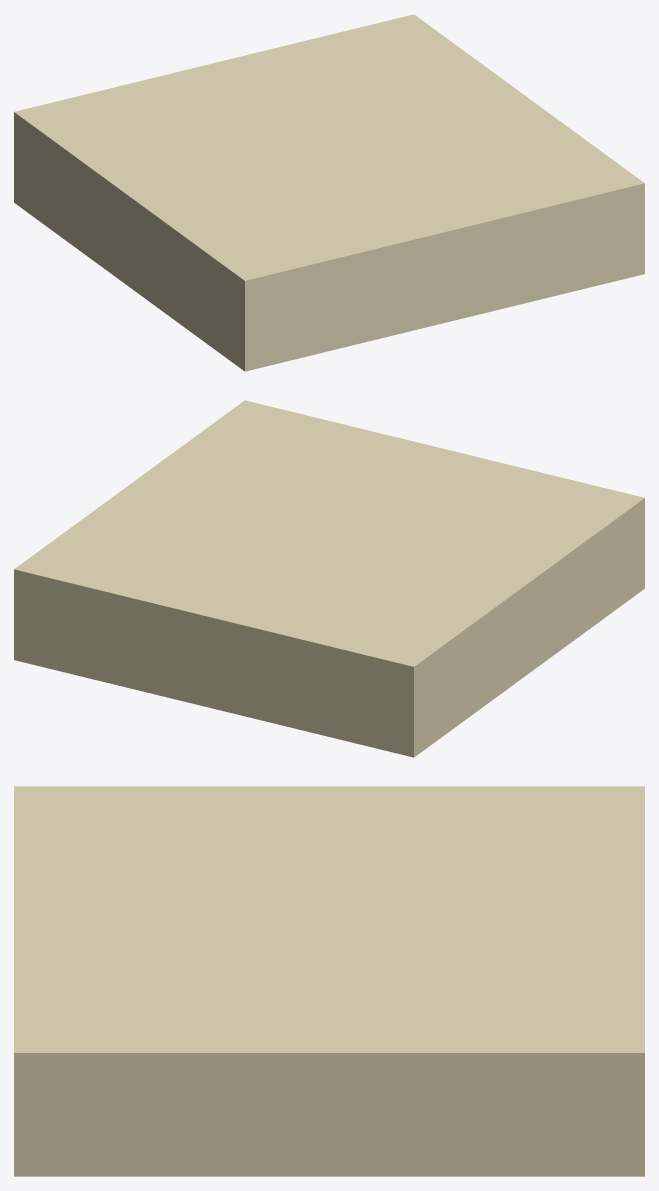
Rendered from towersquaremidcolor.glb.
3 renders of one model, top to bottom at view 1: azimuth 30°, elevation 25°; view 2: azimuth 150°, elevation 25°; view 3: azimuth 270°, elevation 25°, orthographic. The views are drawn at different scales.
Parts seen in each view (by area): view 1: towerSquareMidColor; view 2: towerSquareMidColor; view 3: towerSquareMidColor.
Boxes of the visible parts, left/top/right/bottom form: towerSquareMidColor: left=14, top=14, right=644, bottom=371; towerSquareMidColor: left=14, top=400, right=644, bottom=757; towerSquareMidColor: left=14, top=786, right=644, bottom=1176.
Size of the model in its own units: 9.3 by 2.02 by 9.3.
